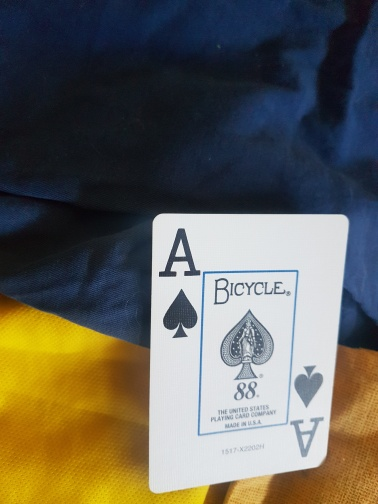ace: (151, 212, 349, 494)
